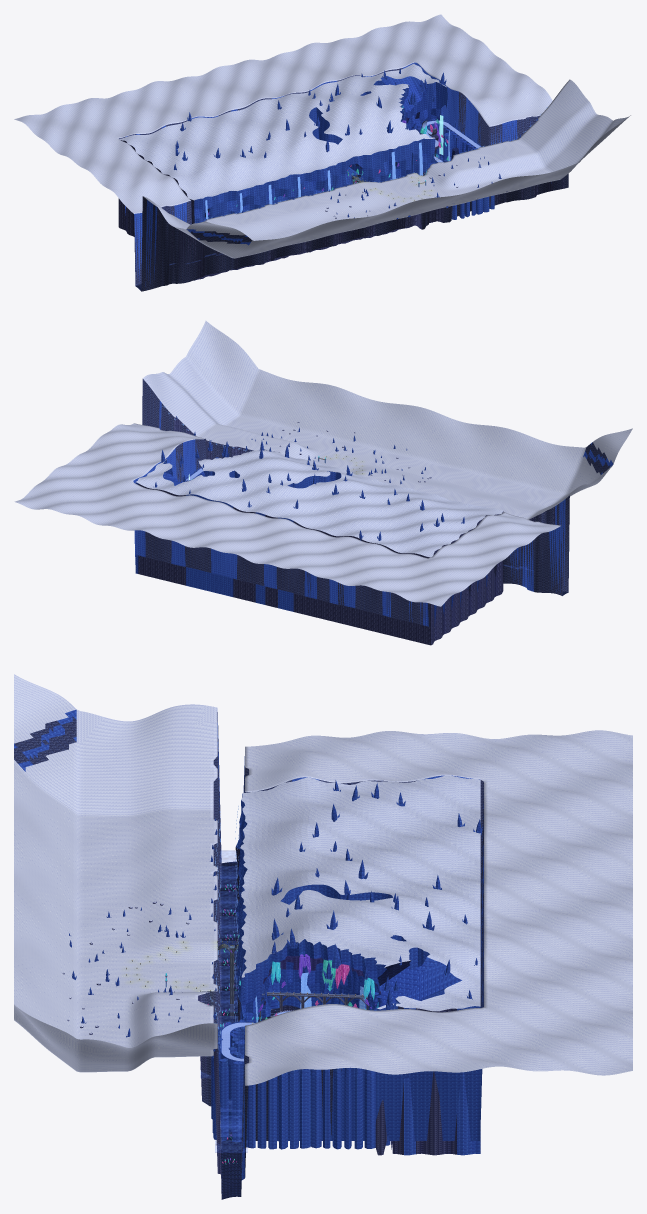
3 views of the same model, one above another, from view 1: azimuth 30°, elevation 25°; view 2: azimuth 150°, elevation 25°; view 3: azimuth 270°, elevation 25° (orthographic). The views are drawn at different scales.
Parts seen in each view (by area): view 1: Land, Glacier; view 2: Land, Glacier; view 3: Land, Glacier, Cathedral visual 0 0, Fallen Ice 11 -1, Fallen Ice 6 -1, Fallen Ice 18 -1, Fallen Ice 12 -1, Fallen Ice 9 -1, Fallen Ice 19 -1, Fallen Ice 7 -1.
Part boxes in pixels (box(x1,y1,x2,y2)): Land: box(14, 14, 630, 291); Glacier: box(118, 63, 447, 280); Land: box(14, 320, 632, 626); Glacier: box(135, 449, 503, 645); Land: box(14, 674, 632, 1199); Glacier: box(234, 775, 480, 1155); Cathedral visual 0 0: box(258, 954, 369, 1021); Fallen Ice 11 -1: box(310, 1069, 321, 1148); Fallen Ice 6 -1: box(364, 1069, 375, 1148); Fallen Ice 18 -1: box(232, 1061, 243, 1142); Fallen Ice 12 -1: box(300, 1069, 310, 1148); Fallen Ice 9 -1: box(332, 1068, 341, 1149); Fallen Ice 19 -1: box(218, 1058, 228, 1141); Fallen Ice 7 -1: box(354, 1068, 362, 1149).
Bounding box in the file's own units: 1620 × 467 × 1260.
Materials: 29 (29 with a texture image).
